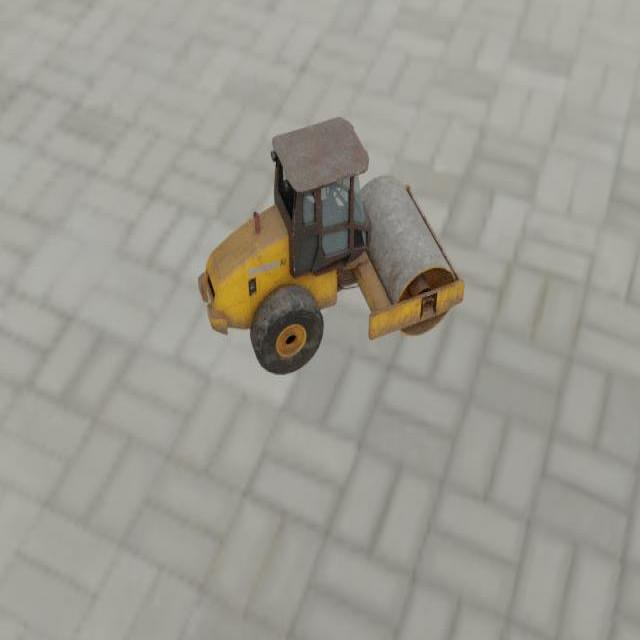Roller: (197, 116, 465, 375)
